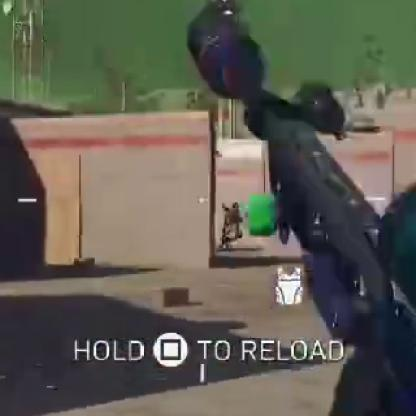enemy: (217, 200, 247, 250)
